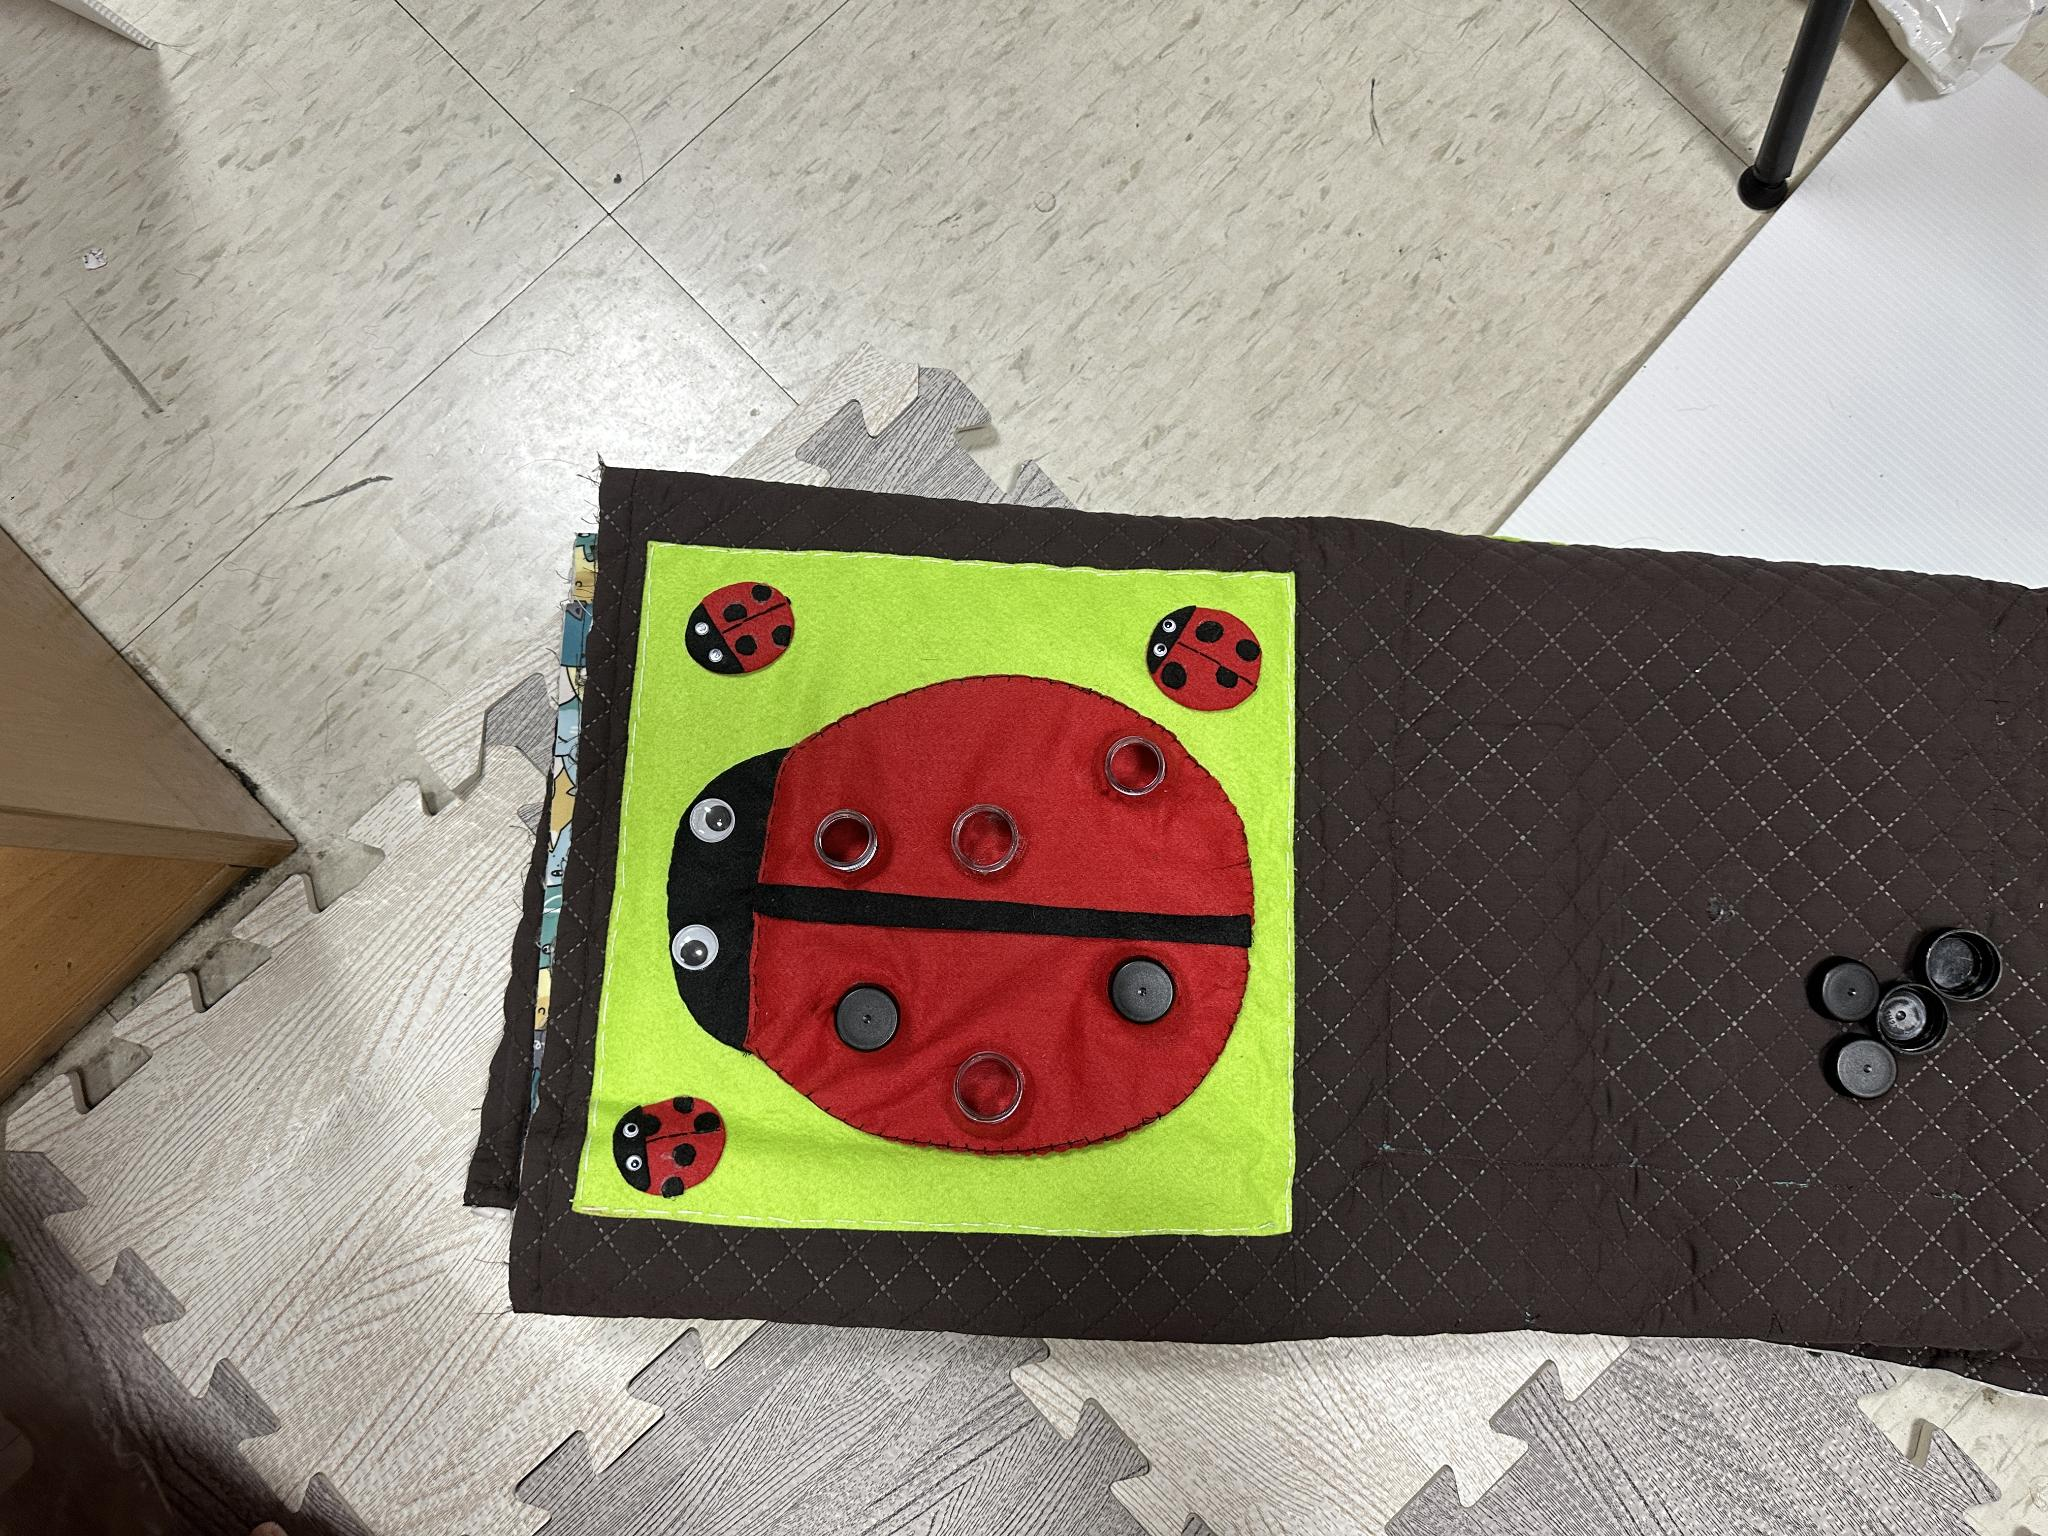cap_ok: (822, 958, 921, 1073), (1095, 936, 1185, 1034)
